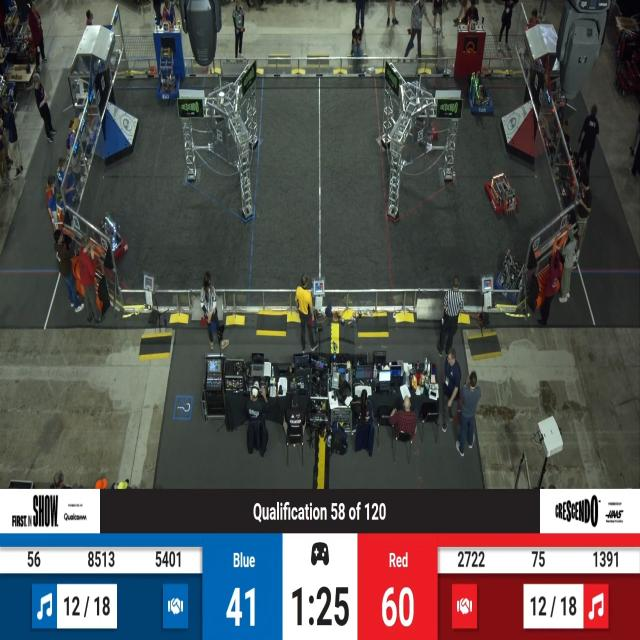Robot: (494, 244, 531, 306), (410, 85, 440, 158), (483, 167, 519, 218), (156, 42, 182, 106), (99, 213, 131, 262), (467, 73, 493, 117)
